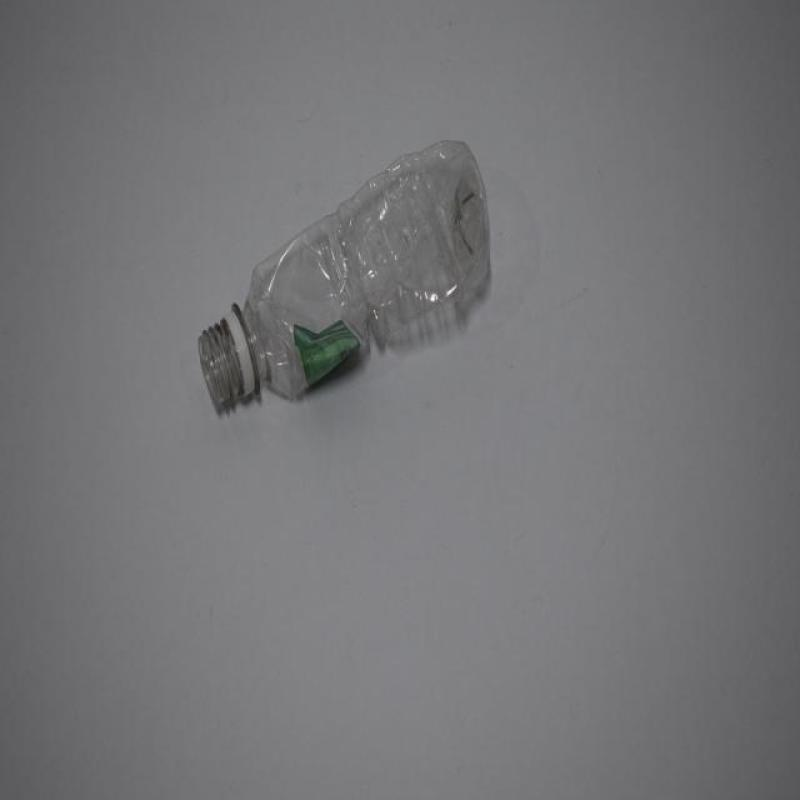botella: (198, 127, 494, 421)
